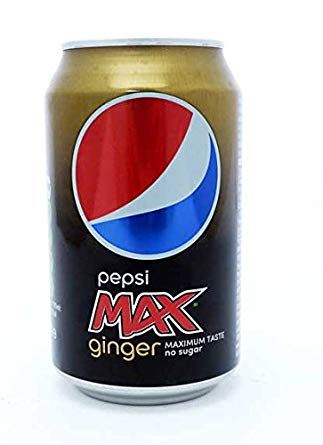pepsi: (69, 89, 220, 257), (78, 89, 220, 257)
